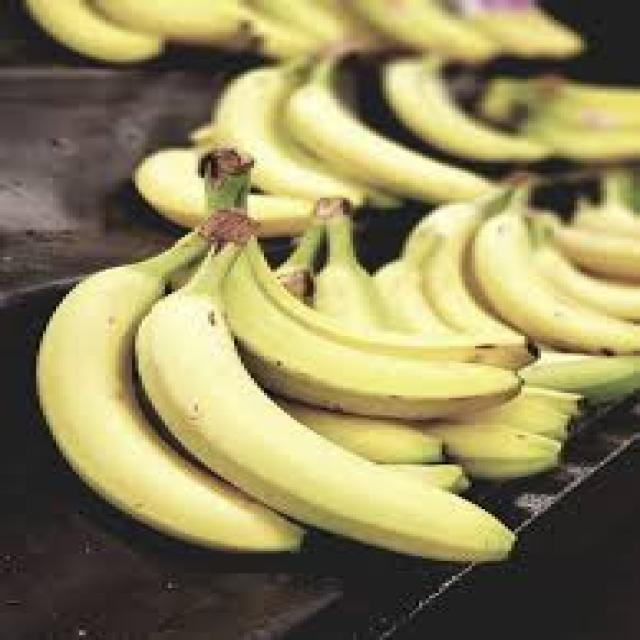Banana: (40, 160, 542, 577), (134, 48, 491, 230), (411, 171, 640, 361), (373, 54, 557, 161), (19, 0, 347, 57)
